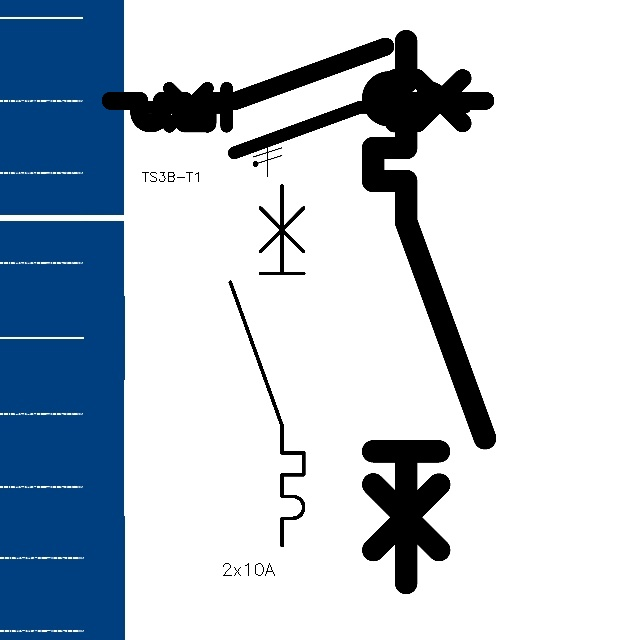interruptor_termomagnetico: (359, 27, 498, 597), (101, 37, 495, 133), (221, 176, 313, 554), (142, 80, 473, 161)
